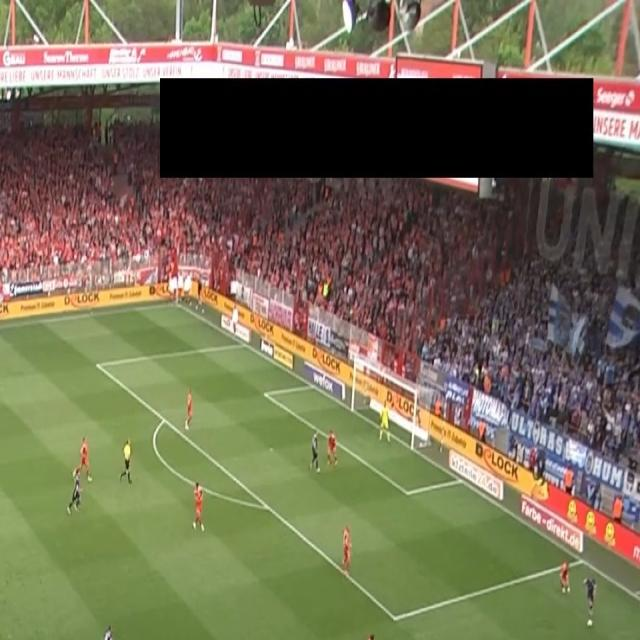ball: (587, 617, 594, 629)
